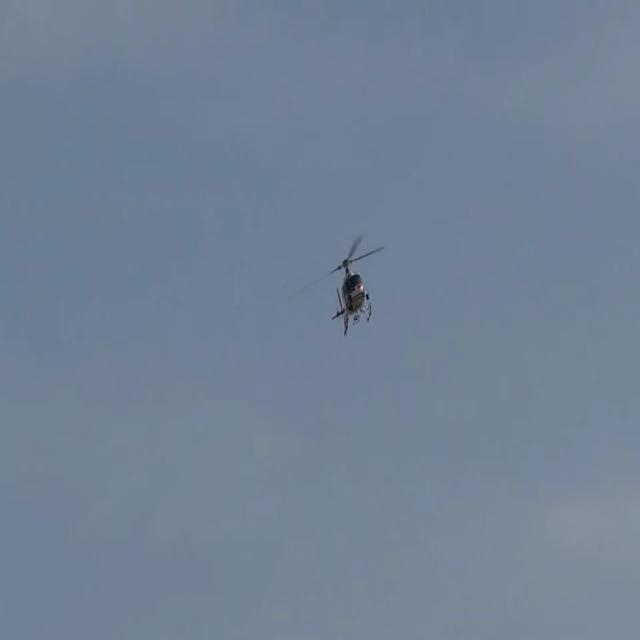Helicopter: (280, 212, 408, 337)
